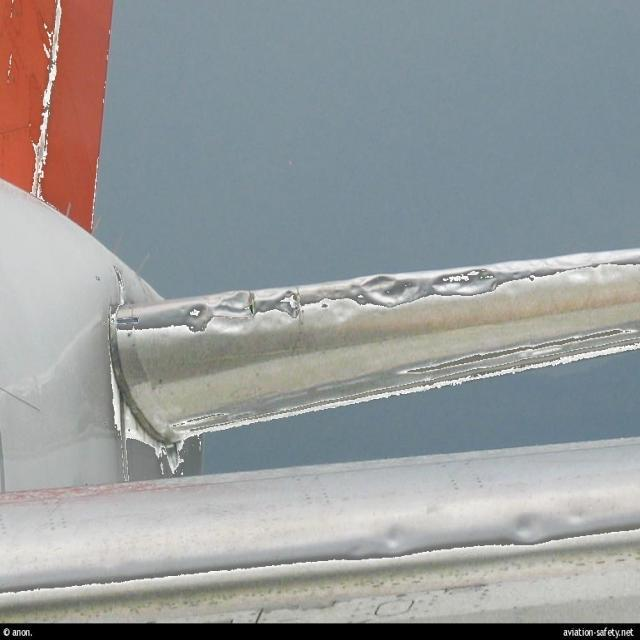dent: (187, 245, 621, 334), (342, 492, 598, 561)
